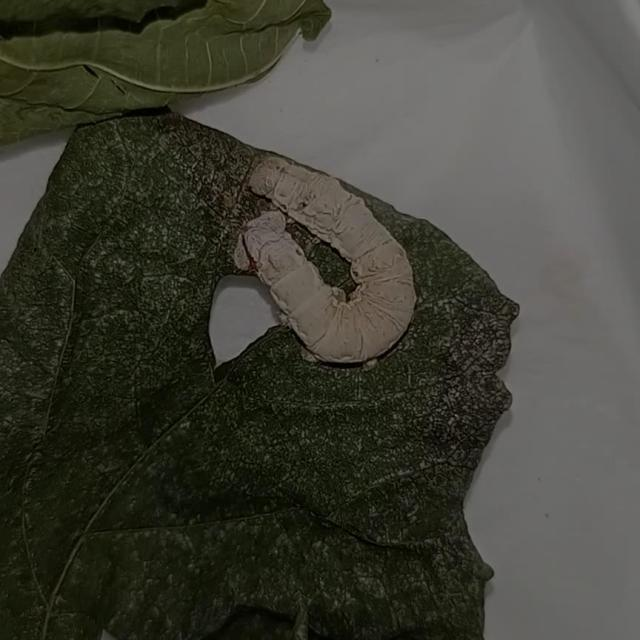Healthy: (231, 150, 418, 372)
